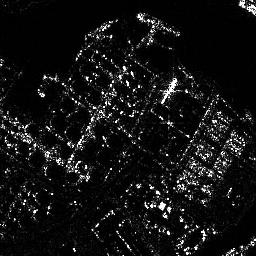ship: (133, 10, 182, 36)
